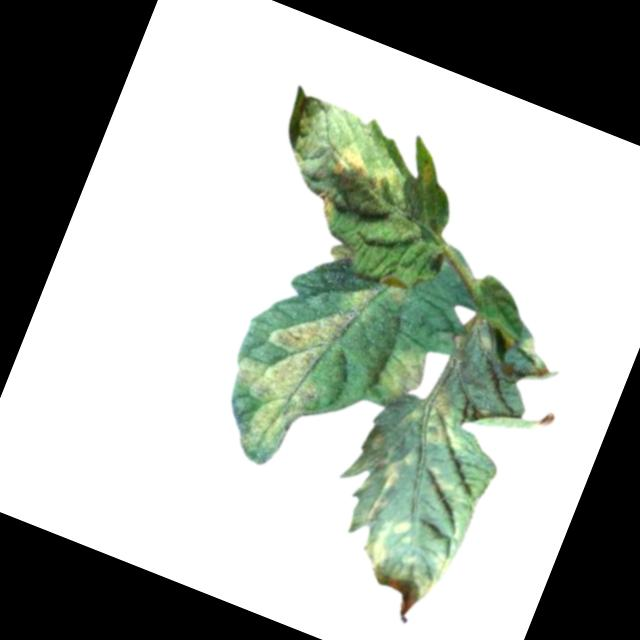Leaf_Mold: (210, 249, 382, 473), (363, 510, 463, 600), (343, 429, 411, 524), (328, 141, 414, 209), (413, 383, 481, 458), (372, 341, 436, 412), (307, 187, 344, 226), (376, 273, 414, 308), (415, 158, 442, 193)
